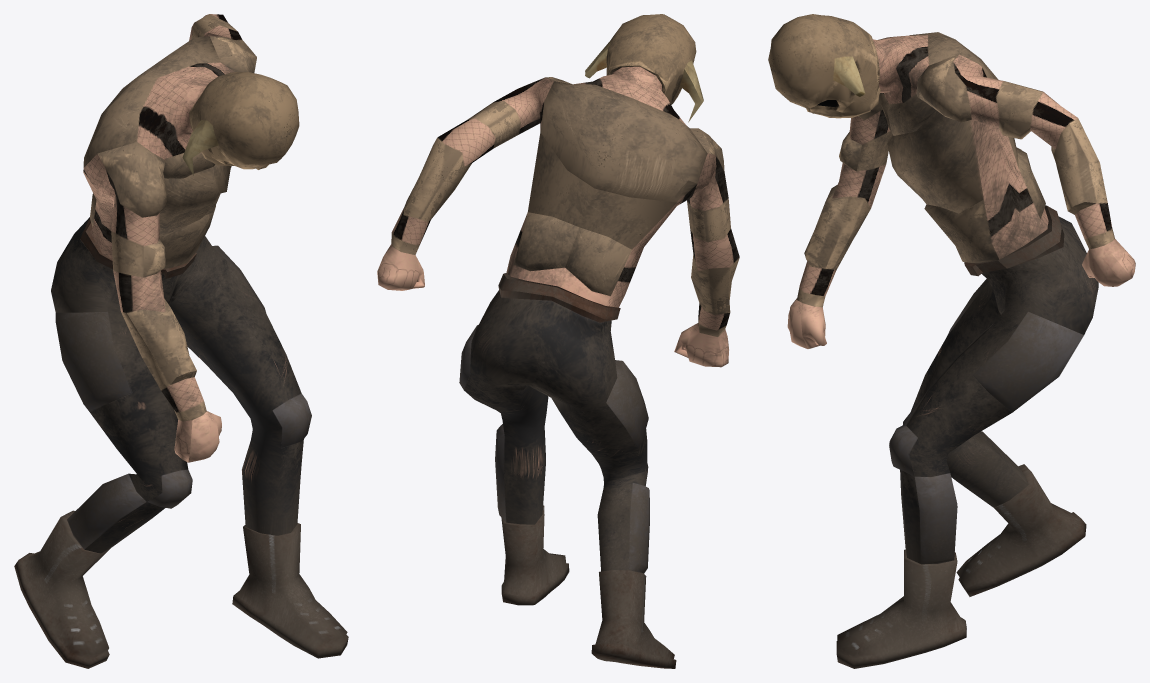
File: Anim_cogerobjeto_npc1.0031.obj
3 views of the same model, side by side, from view 1: azimuth 30°, elevation 25°; view 2: azimuth 150°, elevation 25°; view 3: azimuth 270°, elevation 25° (orthographic). The views are drawn at different scales.
Parts seen in each view (by area): view 1: NPC2; view 2: NPC2; view 3: NPC2.
Boxes of the visible parts, x1,y1,x2,y2 form: NPC2: (14, 14, 348, 668); NPC2: (377, 14, 739, 668); NPC2: (768, 14, 1135, 668).
Bounding box in the file's own units: 3.28 × 7.78 × 4.24.
